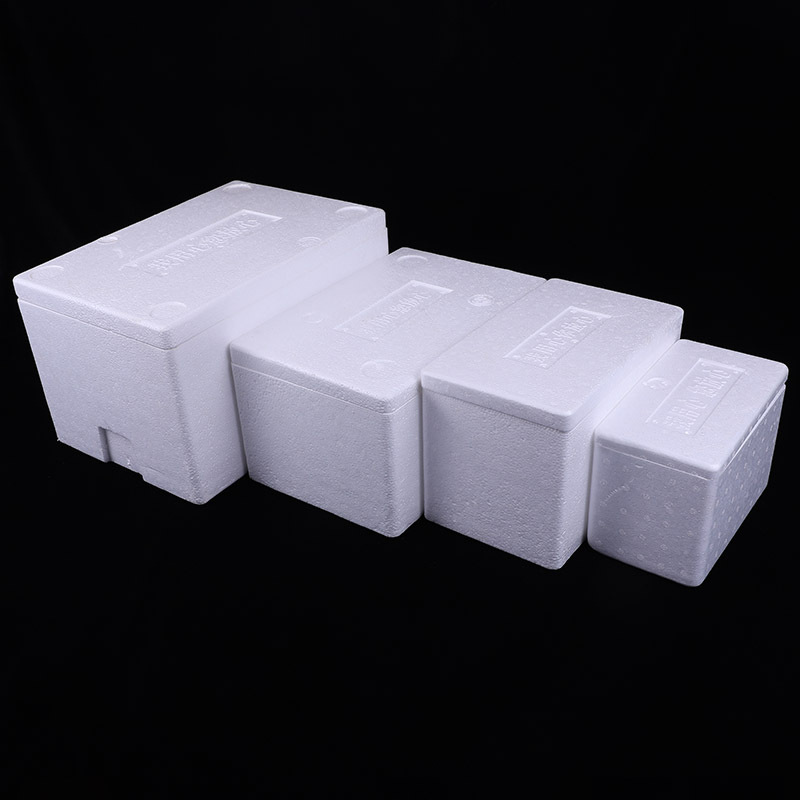Boxes: (17, 183, 787, 585)
